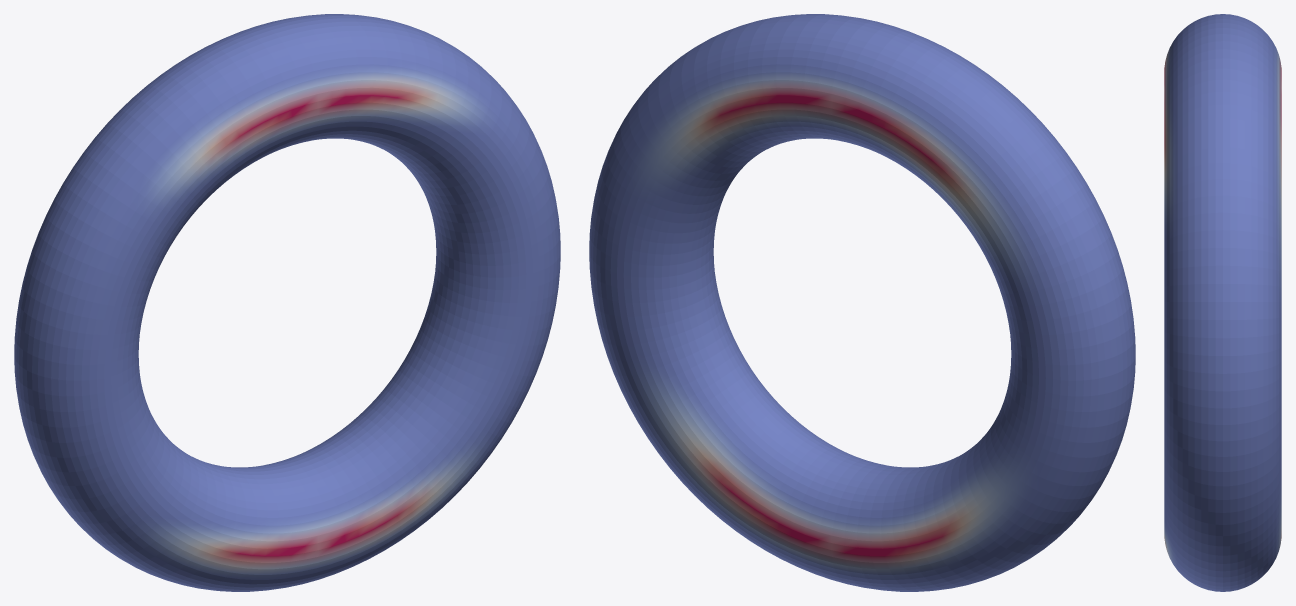
3 renders of one model, left to right at view 1: azimuth 30°, elevation 25°; view 2: azimuth 150°, elevation 25°; view 3: azimuth 270°, elevation 25°, orthographic. The views are drawn at different scales.
Visible parts, largest first — view 1: world; view 2: world; view 3: world.
Boxes of the visible parts, box(x1,y1,x2,y2) form: world: box(14, 14, 560, 591); world: box(589, 14, 1135, 591); world: box(1164, 14, 1281, 591).
Size of the model in its own units: 15.07 by 15.07 by 3.06.
